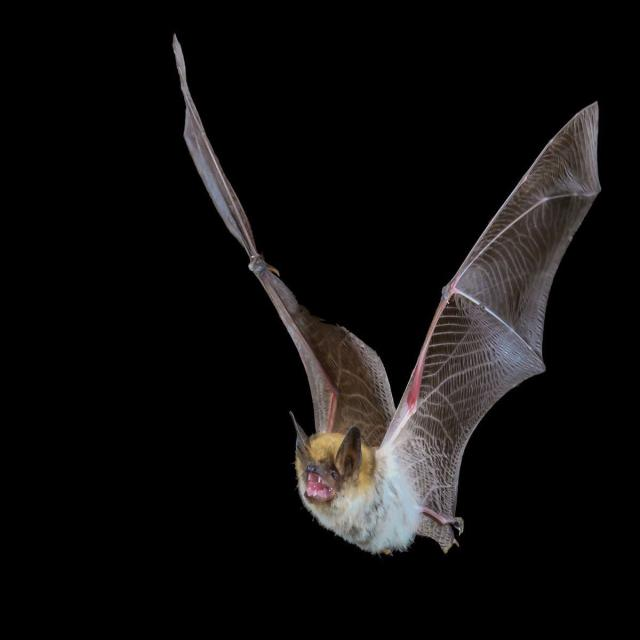Bat: (168, 32, 604, 574)
